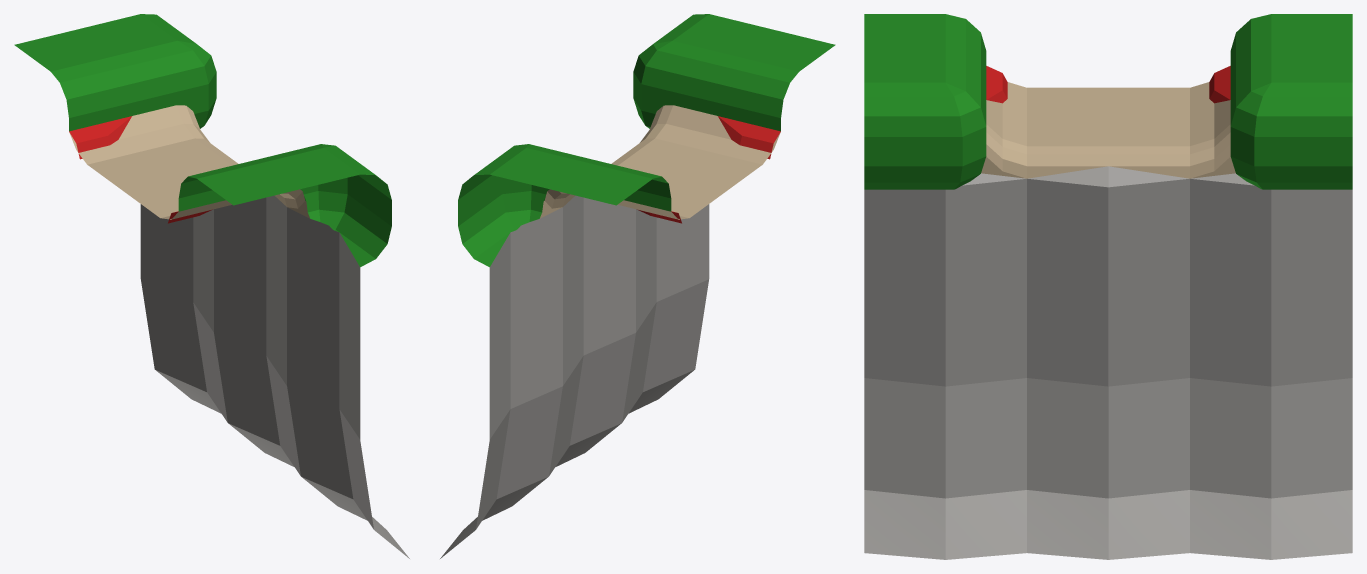
Rendered from Track_Cliff_Edge_Striped_3_Tall_Single.obj.
3 renders of one model, left to right at view 1: azimuth 30°, elevation 25°; view 2: azimuth 150°, elevation 25°; view 3: azimuth 270°, elevation 25°, orthographic. The views are drawn at different scales.
Parts seen in each view (by area): view 1: Rock, Grass, Dirt, object2; view 2: Rock, Grass, Dirt, object1; view 3: Rock, Grass, Dirt, object1, object2.
Part boxes in pixels (left/top/right/bottom): Rock: left=140, top=195, right=409, bottom=558; Grass: left=14, top=14, right=391, bottom=267; Dirt: left=69, top=105, right=309, bottom=219; object2: left=69, top=116, right=131, bottom=159; Rock: left=440, top=195, right=709, bottom=558; Grass: left=458, top=14, right=835, bottom=267; Dirt: left=540, top=105, right=780, bottom=219; object1: left=718, top=116, right=780, bottom=159; Rock: left=864, top=166, right=1352, bottom=559; Grass: left=864, top=14, right=1352, bottom=189; Dirt: left=981, top=82, right=1235, bottom=178; object1: left=986, top=66, right=1007, bottom=103; object2: left=1209, top=66, right=1230, bottom=103.
Size of the model in its own units: 1.5 by 3 by 3.
